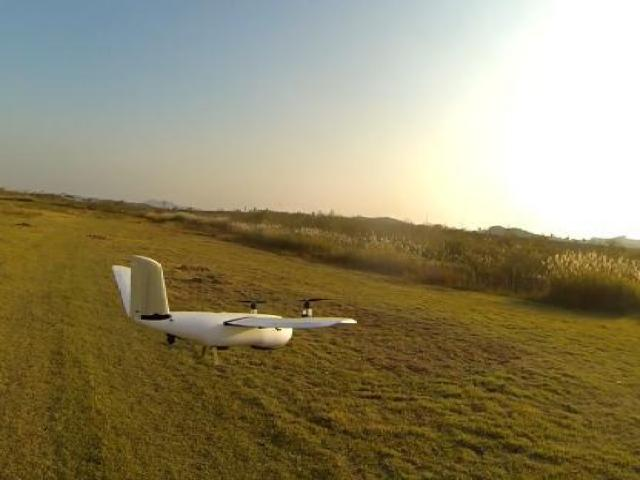uav: (109, 241, 363, 382)
